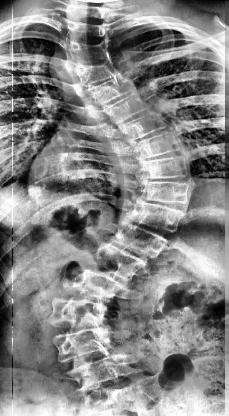Vertebrae: (63, 348, 139, 392), (104, 220, 170, 262), (114, 198, 186, 236), (91, 240, 149, 286), (88, 88, 154, 128), (121, 173, 193, 209), (67, 264, 127, 306), (102, 109, 171, 145), (113, 131, 183, 165), (77, 73, 139, 111), (51, 325, 113, 363), (120, 154, 194, 184), (48, 296, 110, 330), (70, 57, 124, 92), (64, 37, 114, 64)
